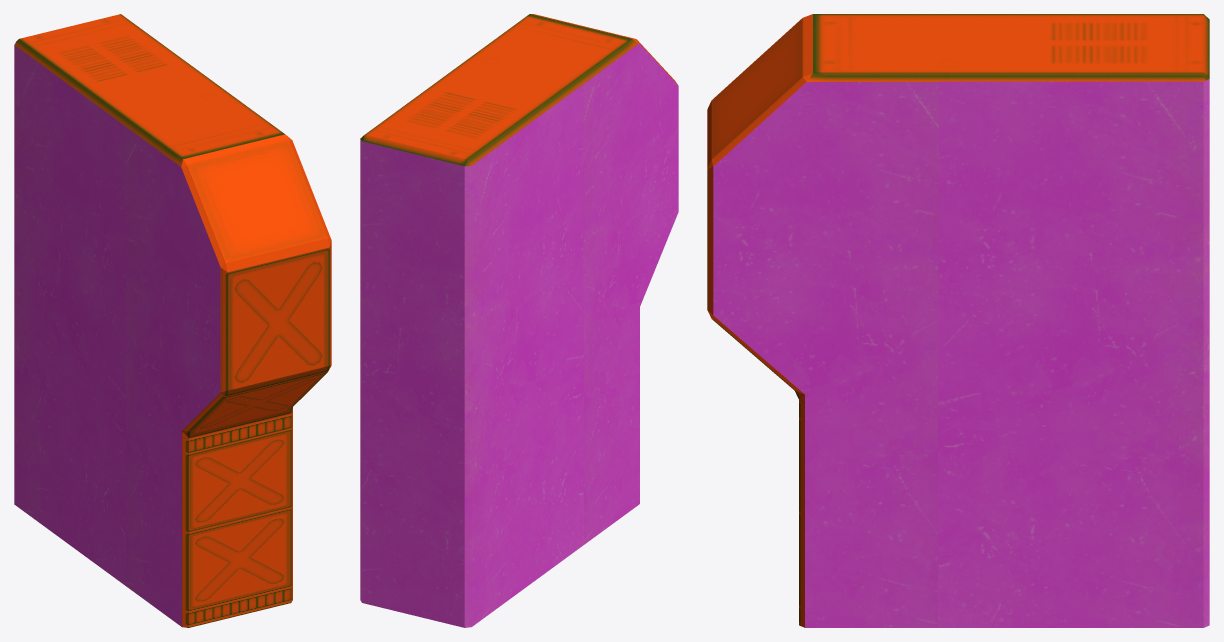
The model's file is ConsoleDesk_03_SM_Low.fbx.
The picture shows the model from 3 angles, left to right: view 1: azimuth 30°, elevation 25°; view 2: azimuth 150°, elevation 25°; view 3: azimuth 270°, elevation 25°; orthographic projection. The views are drawn at different scales.
Parts seen in each view (by area): view 1: BreakupSection; view 2: BreakupSection; view 3: BreakupSection.
Part boxes in pixels (box(x1,y1,x2,y2)): BreakupSection: box(14, 14, 331, 627); BreakupSection: box(360, 14, 678, 627); BreakupSection: box(707, 14, 1209, 627).
Bounding box in the file's own units: 32.33 × 129 × 107.
